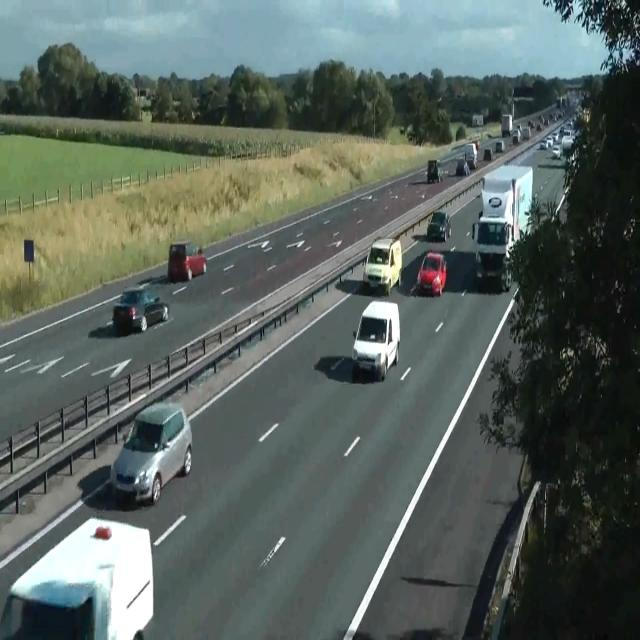bus: (553, 190, 569, 228), (551, 145, 561, 159), (512, 130, 520, 144)
jeep: (0, 515, 154, 638), (110, 401, 192, 506), (352, 298, 400, 381), (112, 284, 168, 334), (362, 237, 402, 295), (472, 214, 510, 270), (167, 241, 207, 283), (416, 251, 447, 296), (427, 210, 451, 242), (456, 158, 469, 176), (483, 147, 493, 160)
minibus: (472, 164, 533, 290), (464, 142, 478, 170), (427, 159, 443, 183), (501, 114, 513, 137), (556, 95, 570, 108), (472, 113, 484, 126)
